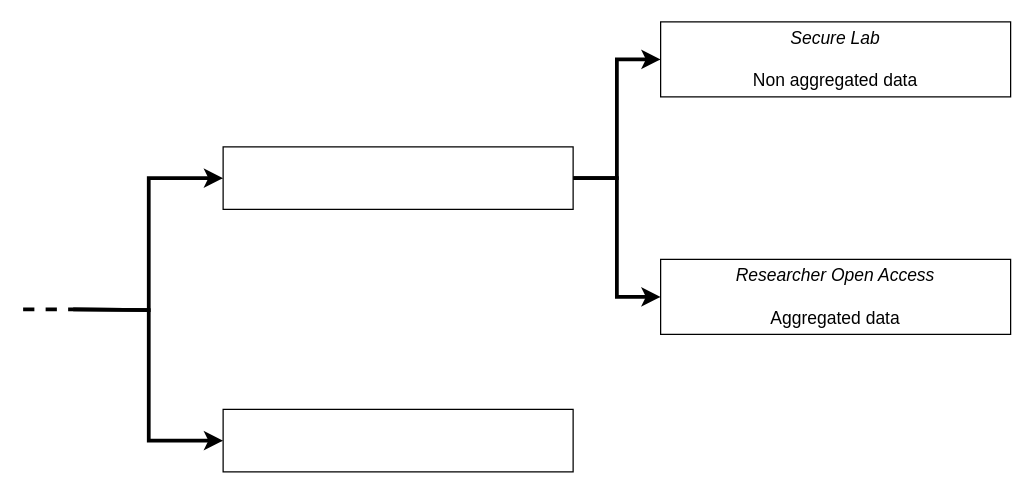
This 1033x494 diagram has some shape labels left out. The centre of each missing label's shape, as x and y in pixels:
"Minstry of Housing, Communities & Local Goverrnment" belongs at (x=397, y=440).
"Researchers" belongs at (x=397, y=177).
